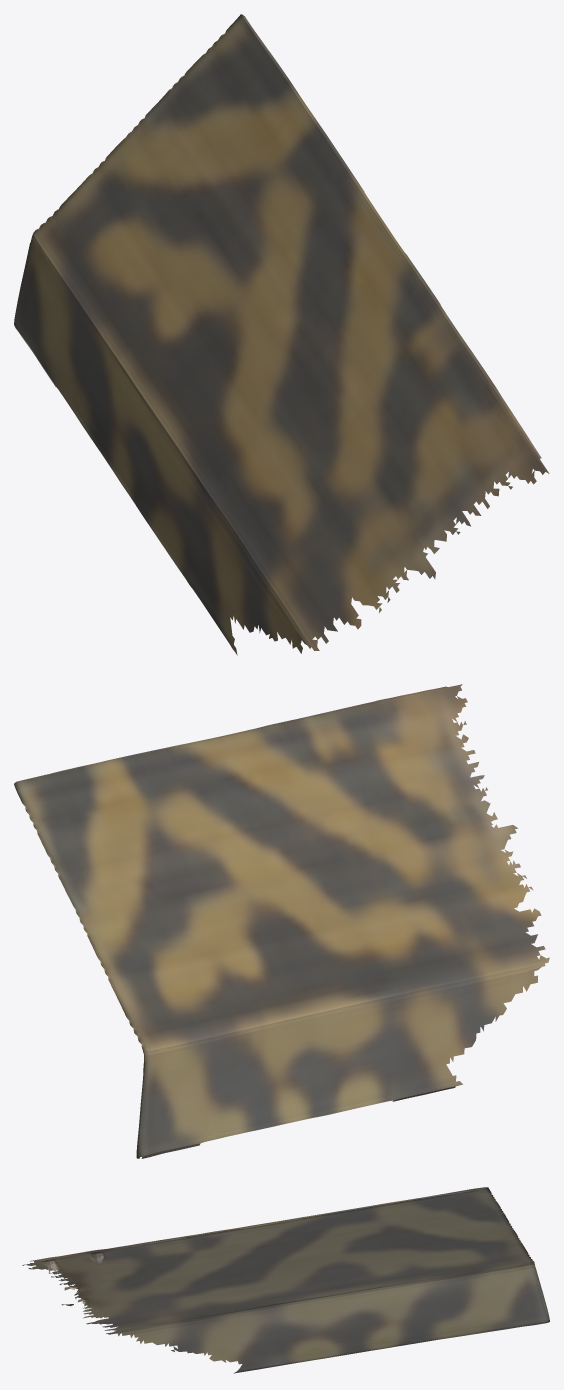
The model's file is guard-left.glb.
The picture shows the model from 3 angles, top to bottom: view 1: azimuth 30°, elevation 25°; view 2: azimuth 150°, elevation 25°; view 3: azimuth 270°, elevation 25°; orthographic projection. The views are drawn at different scales.
Parts seen in each view (by area): view 1: geometry_0; view 2: geometry_0; view 3: geometry_0.
Part boxes in pixels (x1,y1,x2,y2): geometry_0: (14,14,549,655); geometry_0: (14,684,549,1158); geometry_0: (22,1187,549,1373).
Size of the model in its own units: 0.4795 by 0.8035 by 1.51.
